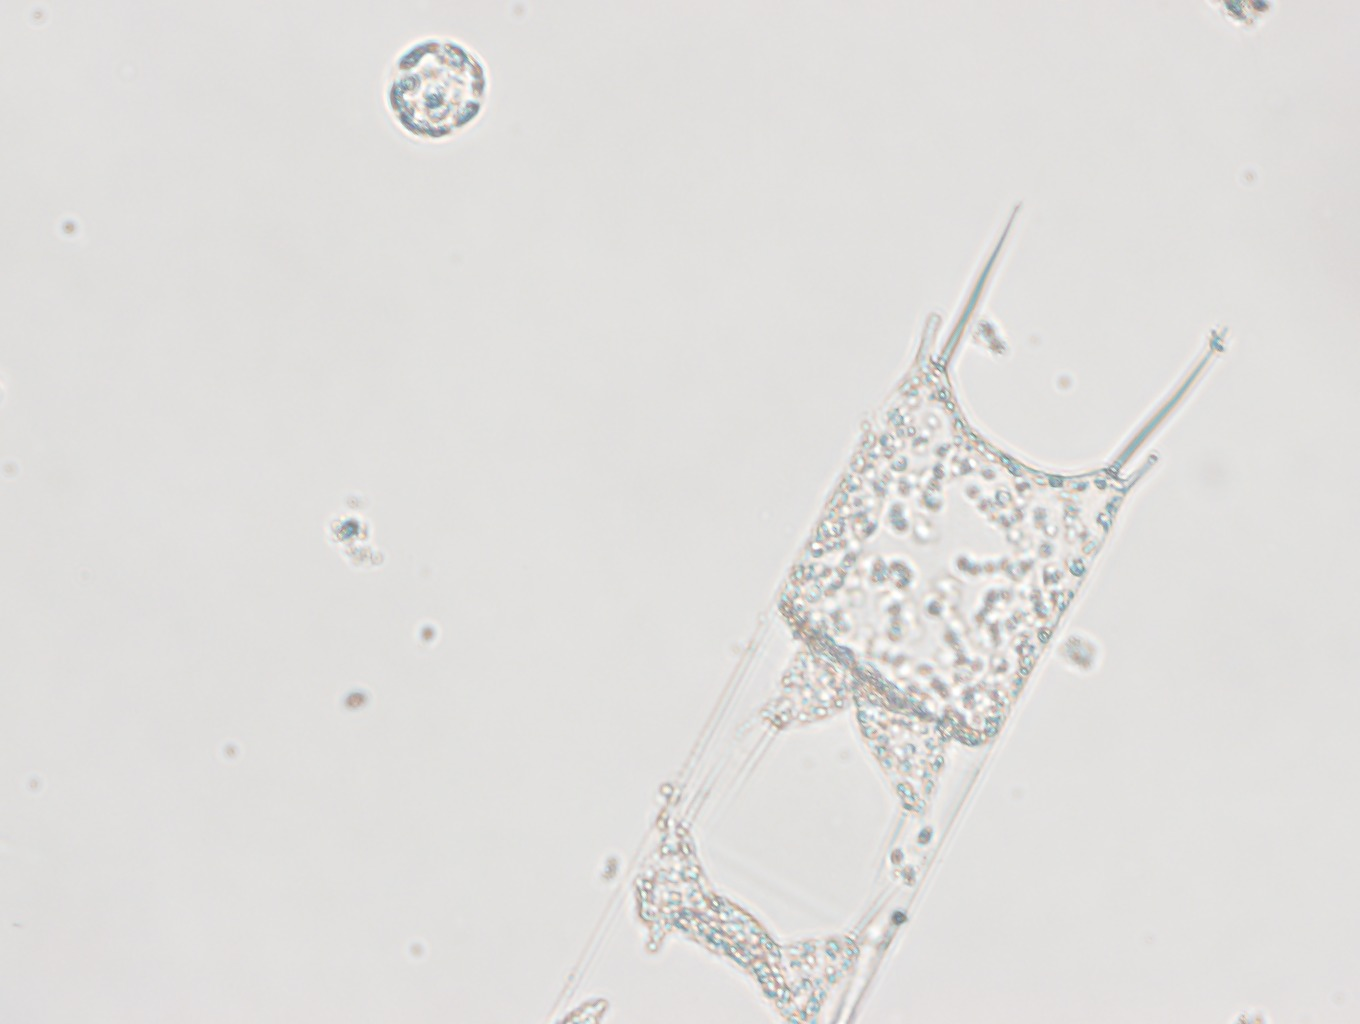biddulphia: (546, 202, 1233, 1024)
